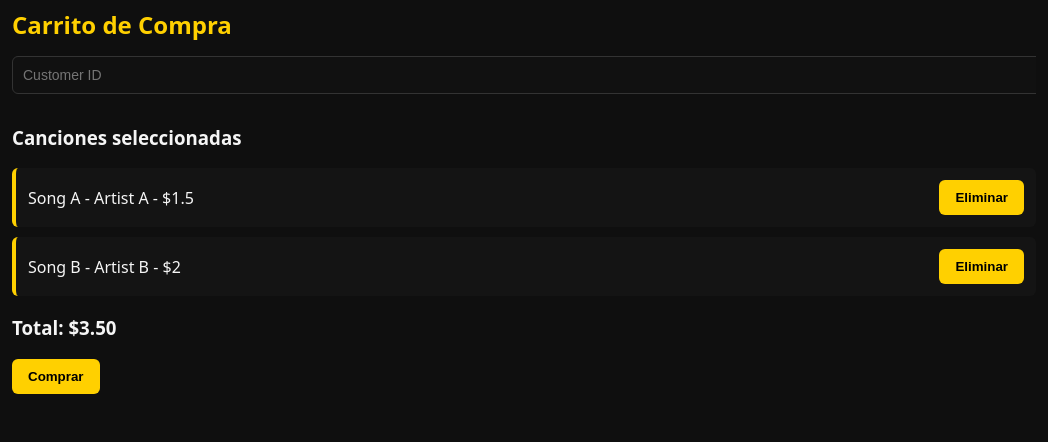
Test: PurchasePage › muestra error si no hay Customer ID
Click the button "Comprar" at (56,376), box top-left (12, 359), bottom-right (100, 394)
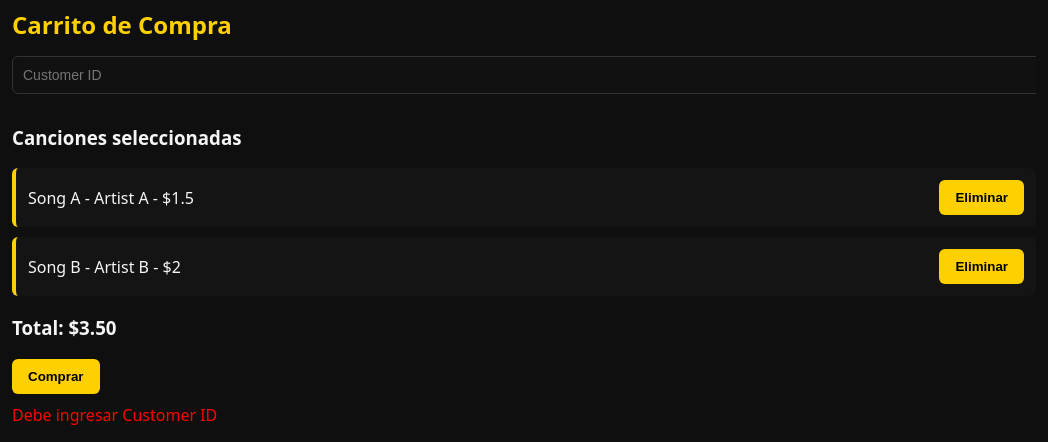
Expected: the text "Debe ingresar Customer ID" is shown, top-left (12, 404), bottom-right (217, 426)
